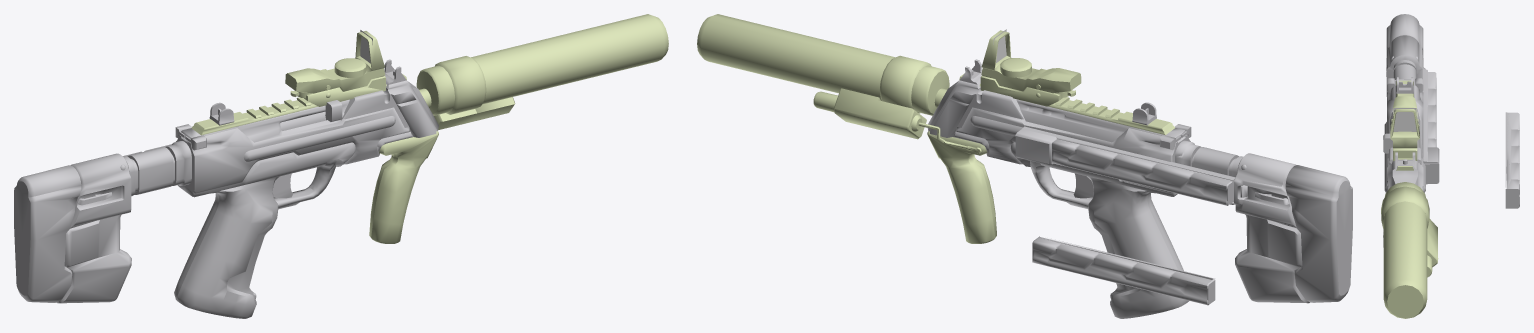
The model's file is M7S_JustGun.fbx.
3 views of the same model, side by side, from view 1: azimuth 30°, elevation 25°; view 2: azimuth 150°, elevation 25°; view 3: azimuth 270°, elevation 25° (orthographic). The views are drawn at different scales.
Parts seen in each view (by area): view 1: Main Body, Scope, Charging Handle; view 2: Main Body, Magazine2, Magazine1, Scope; view 3: Main Body, Magazine2, Scope, Magazine1, ScopeLens, Charging Handle.
Part boxes in pixels (x1,y1,x2,y2): Main Body: (14,14,668,318); Scope: (285,31,385,106); Charging Handle: (280,100,342,130); Main Body: (697,14,1352,318); Magazine2: (1032,236,1215,305); Magazine1: (1051,139,1233,205); Scope: (980,30,1081,106); Main Body: (1381,14,1439,318); Magazine2: (1505,112,1519,208); Scope: (1390,96,1419,161); Magazine1: (1428,72,1436,147); ScopeLens: (1393,108,1416,131); Charging Handle: (1383,133,1392,153).
Size of the model in its own units: 8376 by 3133 by 1764.
